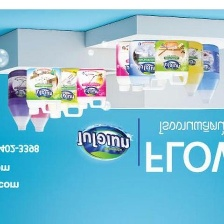cleaning_solution: (113, 40, 157, 92), (126, 38, 168, 92), (44, 65, 86, 119), (5, 67, 38, 132), (23, 64, 62, 117), (22, 76, 55, 134), (191, 43, 221, 105), (152, 37, 189, 87), (176, 39, 205, 98), (73, 66, 109, 110)
